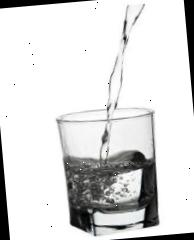glass: (56, 104, 168, 238)
